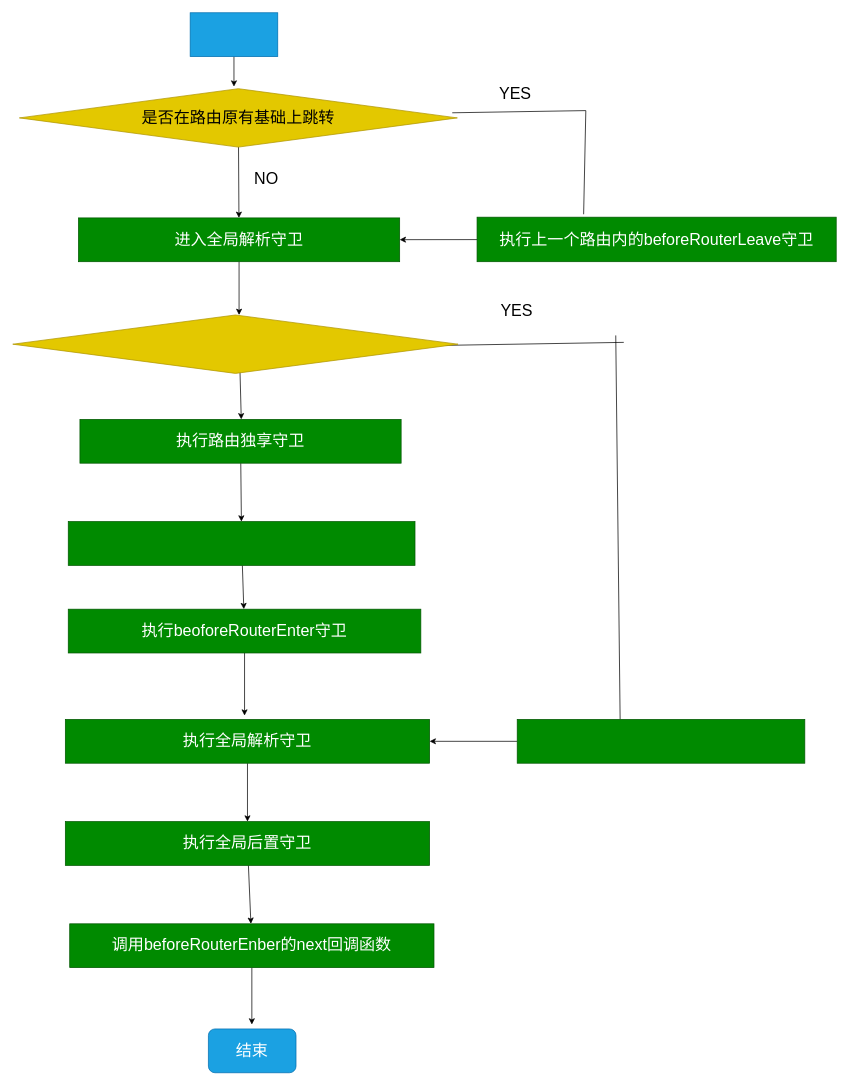
Some shapes in this 849 by 1086 pixel diagram are drawn without their labels. Each missing label, with the centre of its shape:
"判断该组件是否已经被创建过" goes at pixel 235 343.
"导航被触发" goes at pixel 233 34.
"执行该组件的beforeRouterUpdate守卫" goes at pixel 660 741.
"解析组件包括异步组件" goes at pixel 241 543.
